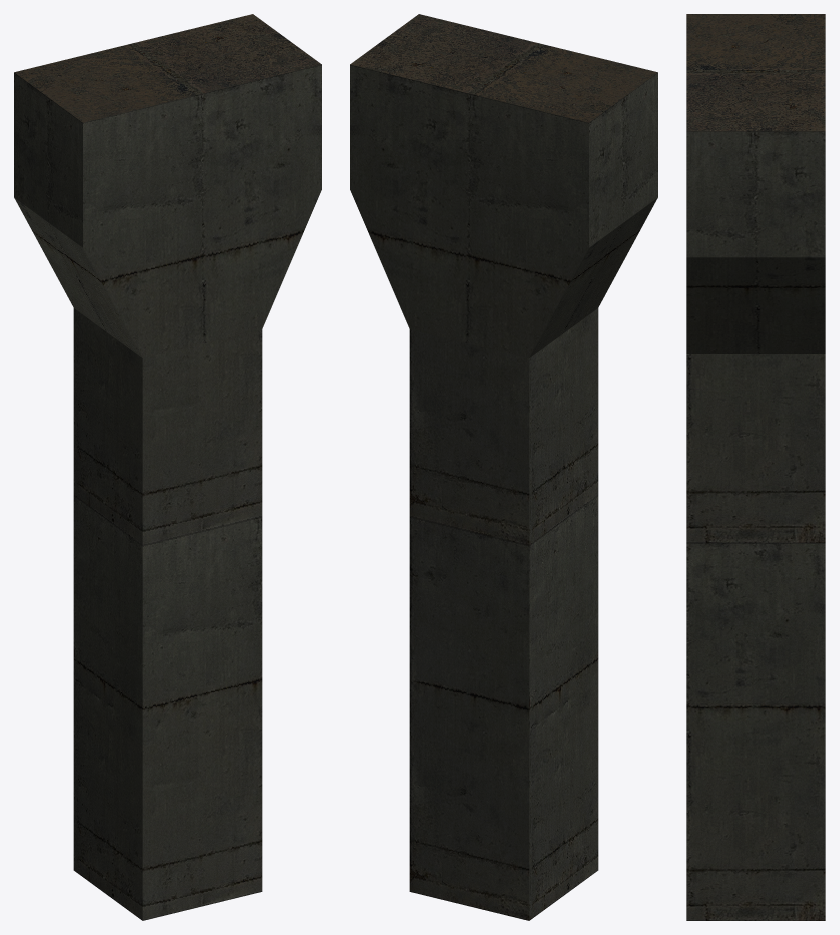
The model's file is pillar_rg_7.glb.
The picture shows the model from 3 angles, left to right: view 1: azimuth 30°, elevation 25°; view 2: azimuth 150°, elevation 25°; view 3: azimuth 270°, elevation 25°; orthographic projection.
Visible parts, largest first — view 1: pillar_rg_7; view 2: pillar_rg_7; view 3: pillar_rg_7.
Part boxes in pixels (box(x1,y1,x2,y2)): pillar_rg_7: box(14, 14, 321, 920); pillar_rg_7: box(350, 14, 657, 920); pillar_rg_7: box(686, 14, 825, 920).
Bounding box in the file's own units: 2 × 6.5 × 1.
2 materials, 2 textured.
